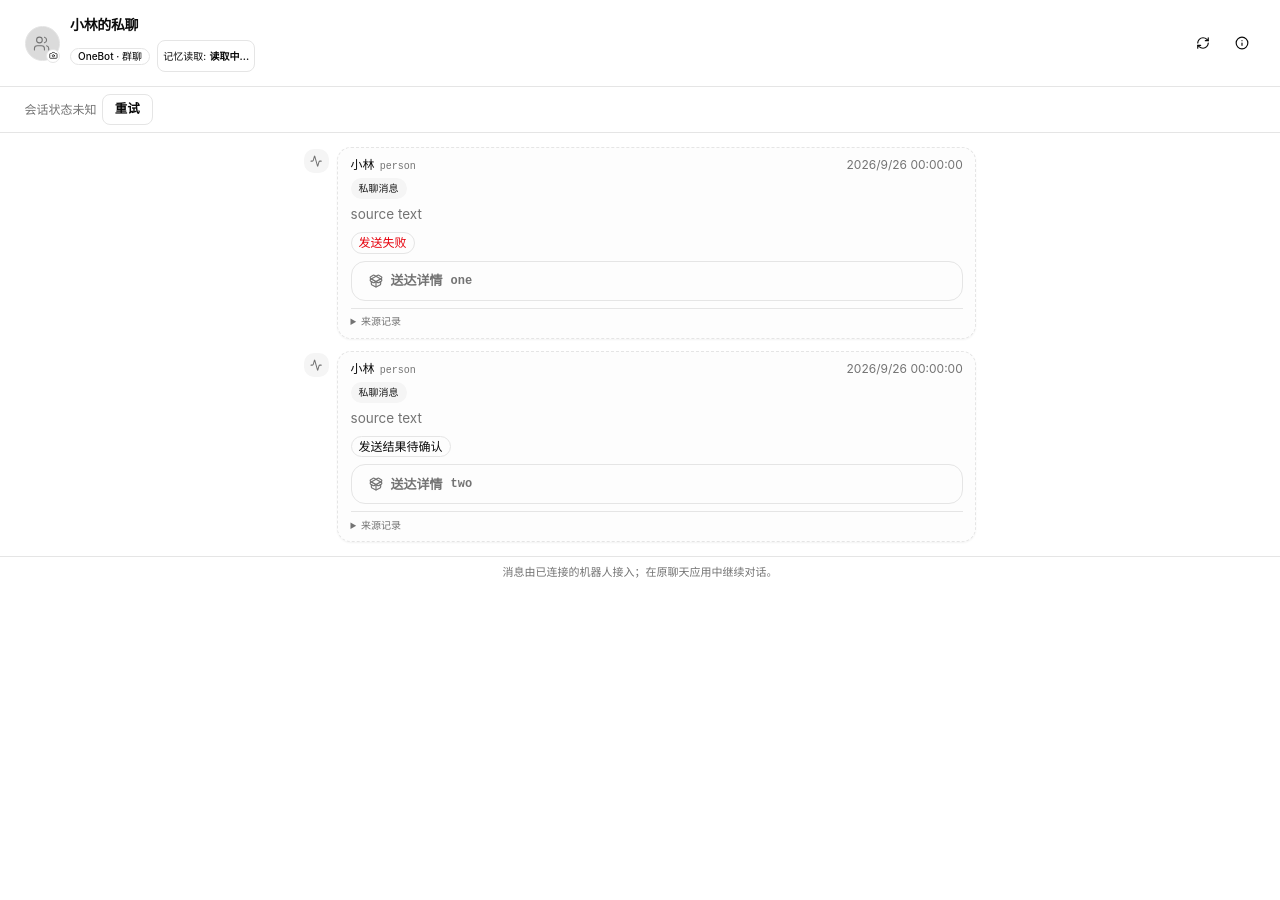
Scenario: separate group output targets show their own partial and unknown outcomes
The width and height of the screenshot is (1280, 900).
What coordinates should you click on to do the following:
click the button "送达详情 one"
I would click on:
 (420, 281)
Its box is [352,262,489,300].
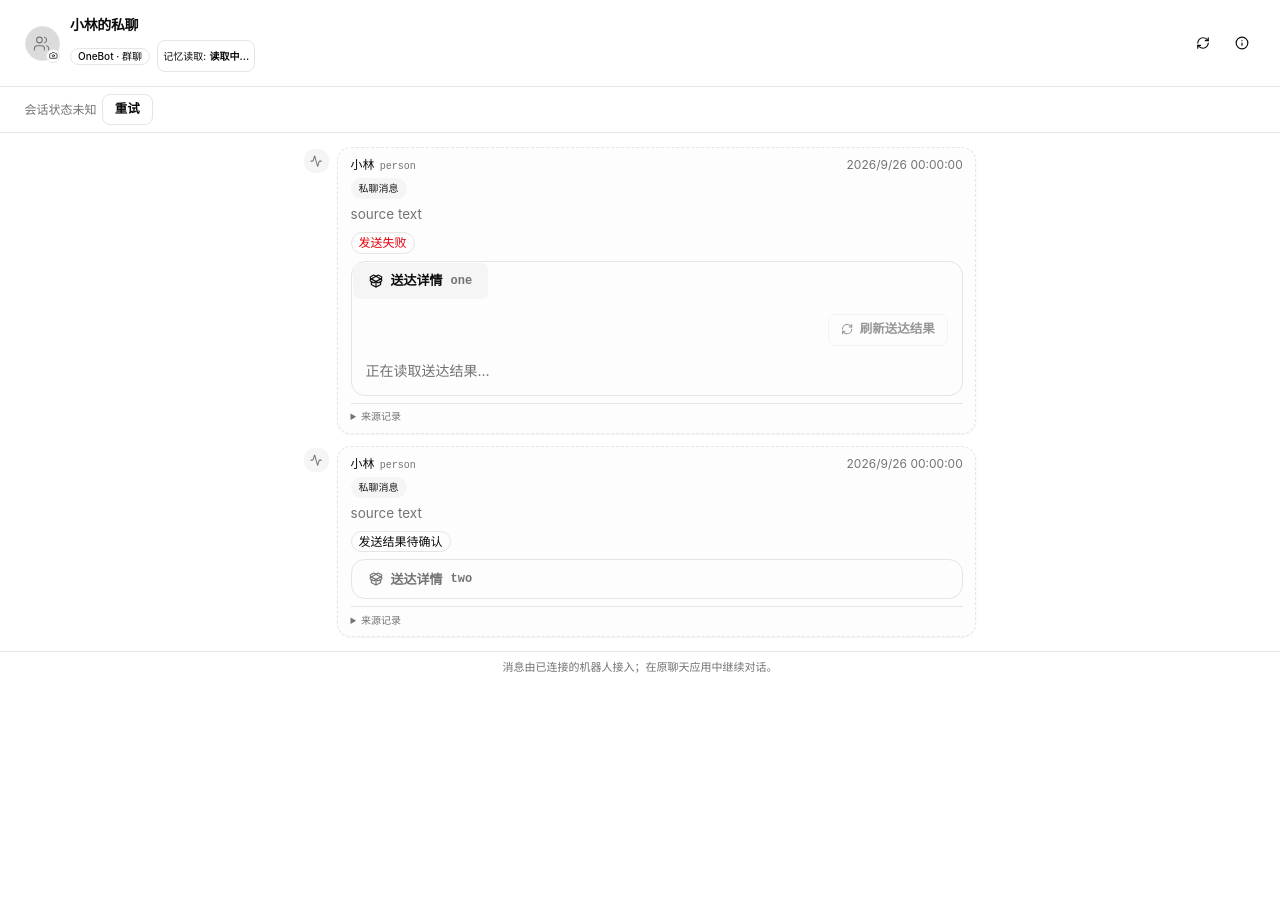
What coordinates should you click on to do the following:
click the button "送达详情 two"
I would click on:
 (420, 579)
Its box is [352,560,489,598].
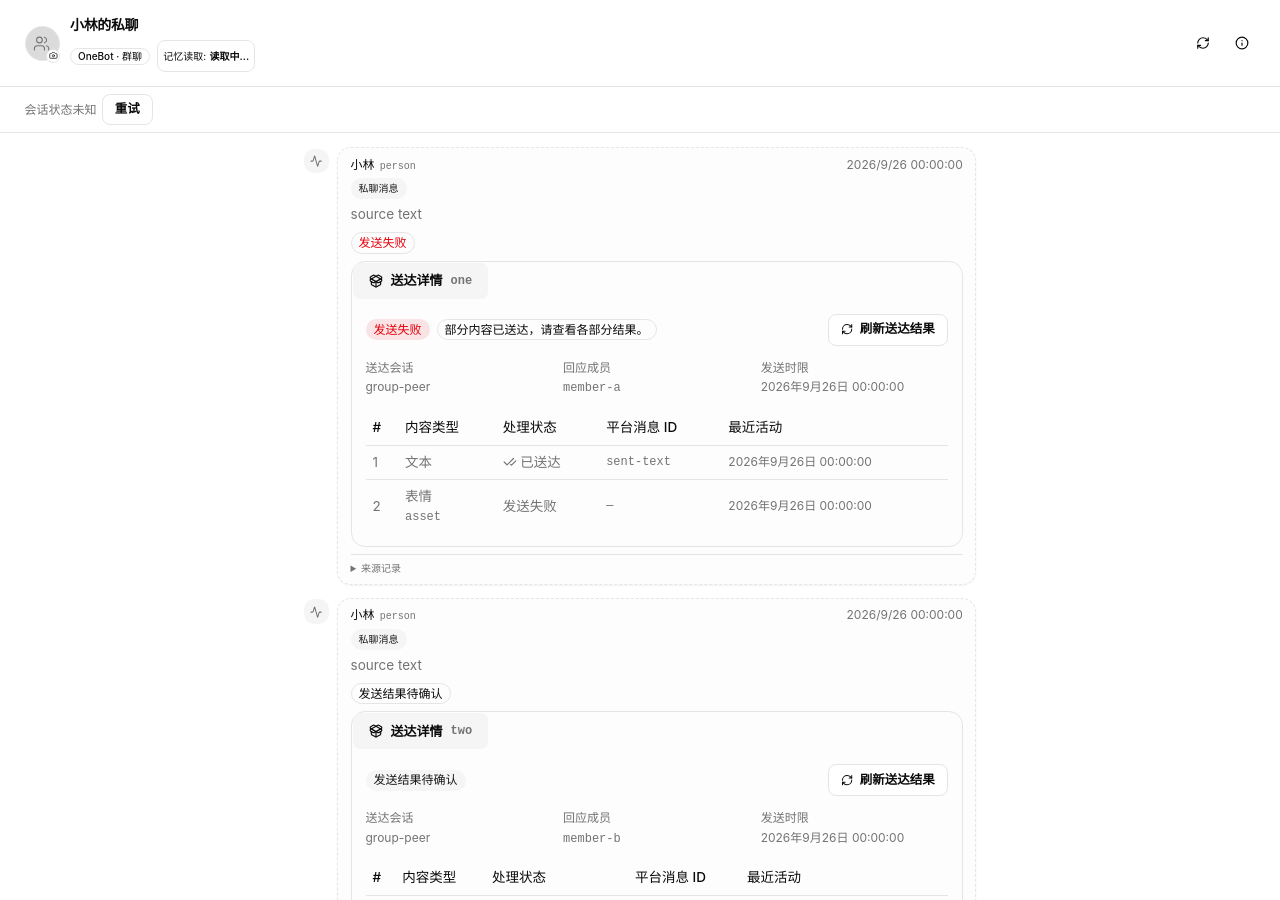
Result: the text "member-a" is shown at [563,381,621,395]
Result: the text "member-b" is shown at [563,832,621,846]
Result: the text "部分内容已送达，请查看各部分结果。" is shown at [436,319,656,340]
